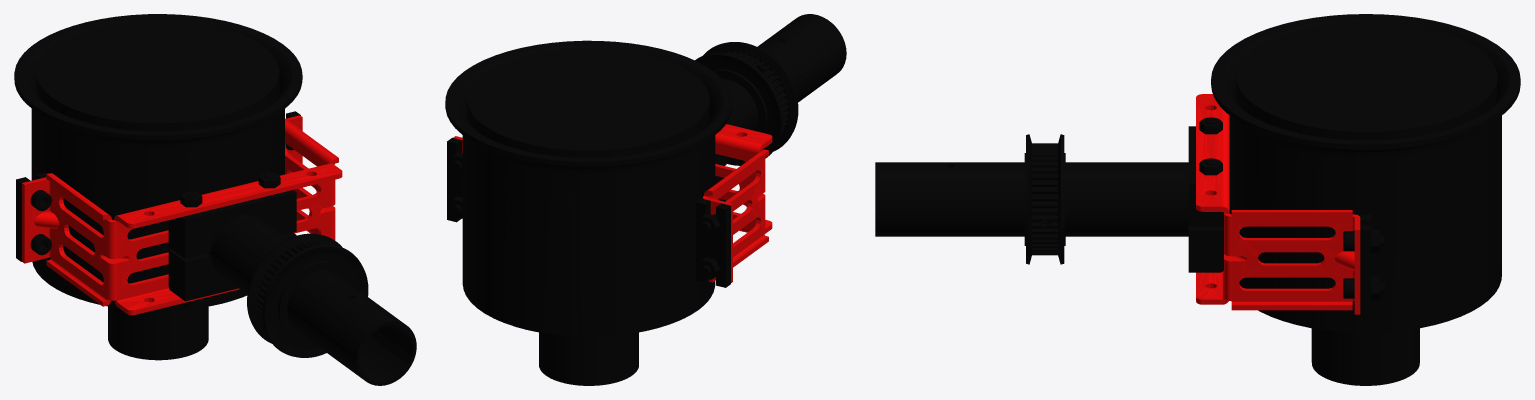
File: ducted_fan_single_rotor.dae
The picture shows the model from 3 angles, left to right: view 1: azimuth 30°, elevation 25°; view 2: azimuth 150°, elevation 25°; view 3: azimuth 270°, elevation 25°; orthographic projection. The views are drawn at different scales.
Visible parts, largest first — view 1: dual_EDF_module - EDF_70mm-1 EDF_70mm_duct-1, dual_EDF_module - EDF_70mm-1 EDF_70mm_blades-1-1, dual_EDF_module - duct_fan_70mm_holder-1-1, dual_EDF_module - EDF_70mm-1 EDF_70mm_duct-1-1, dual_EDF_module - EDF_70mm-1 EDF_70mm_blades-1, dual_EDF_module - dual_rotor_rod-1, dual_EDF_module - duct_fan_70mm_holder-1, dual_EDF_module - gimbal_pitch_shaft_HTPB48S2M060_A_H20-1-1, dual_EDF_module - dual_rotor_rod-1-1, dual_EDF_module - EDF_70mm-1 motor_freewing2952_2100KV-1, dual_EDF_module - gimbal_pitch_shaft_HTPB48S2M060_A_H20-1, dual_EDF_module - 20mm_clamp_orig-1-1 (+4 smaller); view 2: dual_EDF_module - EDF_70mm-1 EDF_70mm_duct-1, dual_EDF_module - EDF_70mm-1 EDF_70mm_duct-1-1, dual_EDF_module - EDF_70mm-1 EDF_70mm_blades-1-1, dual_EDF_module - EDF_70mm-1 EDF_70mm_blades-1, dual_EDF_module - dual_rotor_rod-1, dual_EDF_module - duct_fan_70mm_holder-1-1, dual_EDF_module - EDF_70mm-1 motor_freewing2952_2100KV-1, dual_EDF_module - gimbal_pitch_shaft_HTPB48S2M060_A_H20-1-1, dual_EDF_module - gimbal_pitch_shaft_HTPB48S2M060_A_H20-1, dual_EDF_module - duct_fan_70mm_holder-1, dual_EDF_module - EDF_70mm-1 motor_freewing2952_2100KV-1-1, dual_EDF_module - dual_rotor_rod-1-1; view 3: dual_EDF_module - EDF_70mm-1 EDF_70mm_duct-1, dual_EDF_module - EDF_70mm-1 EDF_70mm_blades-1-1, dual_EDF_module - dual_rotor_rod-1, dual_EDF_module - EDF_70mm-1 EDF_70mm_duct-1-1, dual_EDF_module - EDF_70mm-1 EDF_70mm_blades-1, dual_EDF_module - duct_fan_70mm_holder-1-1, dual_EDF_module - duct_fan_70mm_holder-1, dual_EDF_module - EDF_70mm-1 motor_freewing2952_2100KV-1, dual_EDF_module - dual_rotor_rod-1-1, dual_EDF_module - gimbal_pitch_shaft_HTPB48S2M060_A_H20-1-1, dual_EDF_module - gimbal_pitch_shaft_HTPB48S2M060_A_H20-1, dual_EDF_module - 20mm_clamp_orig-2-1 (+4 smaller).
Part boxes in pixels (left/top/right/bottom): dual_EDF_module - EDF_70mm-1 EDF_70mm_duct-1: left=14, top=14, right=302, bottom=310; dual_EDF_module - EDF_70mm-1 EDF_70mm_blades-1-1: left=36, top=20, right=279, bottom=131; dual_EDF_module - duct_fan_70mm_holder-1-1: left=22, top=115, right=341, bottom=314; dual_EDF_module - EDF_70mm-1 EDF_70mm_duct-1-1: left=14, top=14, right=302, bottom=310; dual_EDF_module - EDF_70mm-1 EDF_70mm_blades-1: left=36, top=20, right=279, bottom=131; dual_EDF_module - dual_rotor_rod-1: left=208, top=214, right=416, bottom=385; dual_EDF_module - duct_fan_70mm_holder-1: left=24, top=117, right=342, bottom=315; dual_EDF_module - gimbal_pitch_shaft_HTPB48S2M060_A_H20-1-1: left=247, top=233, right=368, bottom=357; dual_EDF_module - dual_rotor_rod-1-1: left=212, top=214, right=416, bottom=385; dual_EDF_module - EDF_70mm-1 motor_freewing2952_2100KV-1: left=108, top=306, right=208, bottom=360; dual_EDF_module - gimbal_pitch_shaft_HTPB48S2M060_A_H20-1: left=247, top=233, right=368, bottom=357; dual_EDF_module - 20mm_clamp_orig-1-1: left=168, top=190, right=296, bottom=258; dual_EDF_module - EDF_70mm-1 EDF_70mm_duct-1: left=445, top=40, right=732, bottom=336; dual_EDF_module - EDF_70mm-1 EDF_70mm_duct-1-1: left=445, top=40, right=732, bottom=336; dual_EDF_module - EDF_70mm-1 EDF_70mm_blades-1-1: left=467, top=48, right=709, bottom=157; dual_EDF_module - EDF_70mm-1 EDF_70mm_blades-1: left=467, top=48, right=709, bottom=157; dual_EDF_module - dual_rotor_rod-1: left=723, top=14, right=846, bottom=130; dual_EDF_module - duct_fan_70mm_holder-1-1: left=453, top=124, right=771, bottom=282; dual_EDF_module - EDF_70mm-1 motor_freewing2952_2100KV-1: left=539, top=332, right=638, bottom=385; dual_EDF_module - gimbal_pitch_shaft_HTPB48S2M060_A_H20-1-1: left=696, top=42, right=798, bottom=165; dual_EDF_module - gimbal_pitch_shaft_HTPB48S2M060_A_H20-1: left=695, top=42, right=798, bottom=165; dual_EDF_module - duct_fan_70mm_holder-1: left=462, top=124, right=772, bottom=281; dual_EDF_module - EDF_70mm-1 motor_freewing2952_2100KV-1-1: left=539, top=332, right=638, bottom=385; dual_EDF_module - dual_rotor_rod-1-1: left=722, top=14, right=845, bottom=130; dual_EDF_module - EDF_70mm-1 EDF_70mm_duct-1: left=1211, top=14, right=1520, bottom=332; dual_EDF_module - EDF_70mm-1 EDF_70mm_blades-1-1: left=1236, top=22, right=1497, bottom=139; dual_EDF_module - dual_rotor_rod-1: left=875, top=162, right=1188, bottom=236; dual_EDF_module - EDF_70mm-1 EDF_70mm_duct-1-1: left=1211, top=14, right=1520, bottom=332; dual_EDF_module - EDF_70mm-1 EDF_70mm_blades-1: left=1236, top=21, right=1497, bottom=139; dual_EDF_module - duct_fan_70mm_holder-1-1: left=1196, top=94, right=1360, bottom=314; dual_EDF_module - duct_fan_70mm_holder-1: left=1196, top=94, right=1359, bottom=304; dual_EDF_module - EDF_70mm-1 motor_freewing2952_2100KV-1: left=1311, top=328, right=1419, bottom=385; dual_EDF_module - dual_rotor_rod-1-1: left=875, top=164, right=1188, bottom=236; dual_EDF_module - gimbal_pitch_shaft_HTPB48S2M060_A_H20-1-1: left=1024, top=134, right=1065, bottom=262; dual_EDF_module - gimbal_pitch_shaft_HTPB48S2M060_A_H20-1: left=1024, top=134, right=1065, bottom=264; dual_EDF_module - 20mm_clamp_orig-2-1: left=1188, top=227, right=1223, bottom=272.
Size of the model in its own units: 93 by 173 by 84.68.
